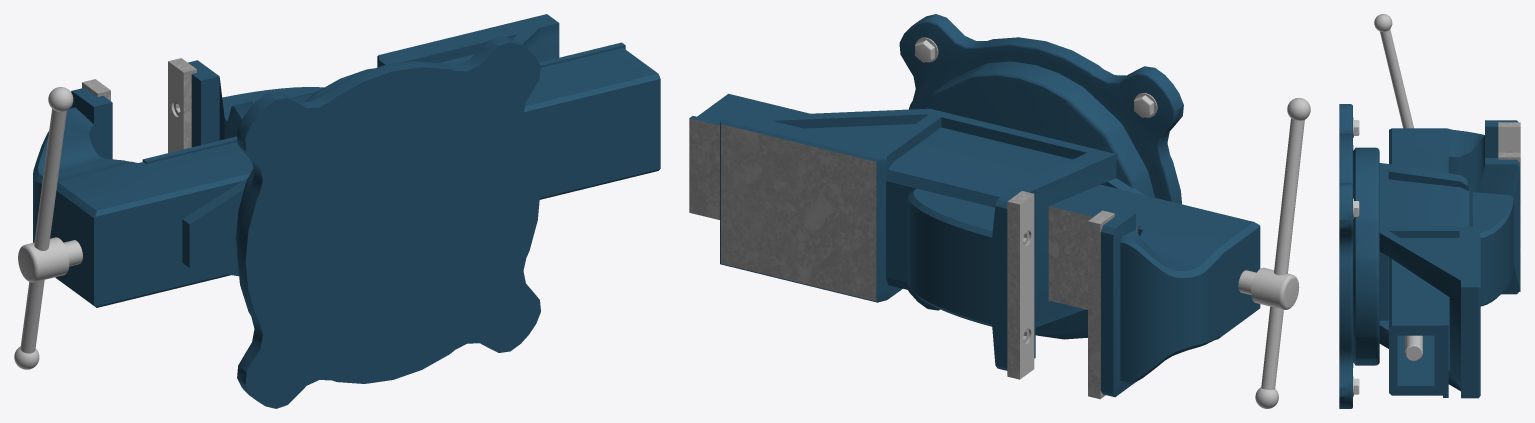
Rendered from Vise Mesh.fbx.
3 views of the same model, side by side, from view 1: azimuth 30°, elevation 25°; view 2: azimuth 150°, elevation 25°; view 3: azimuth 270°, elevation 25° (orthographic). The views are drawn at different scales.
Parts seen in each view (by area): view 1: Vise LOD0; view 2: Vise LOD0; view 3: Vise LOD0.
Part boxes in pixels (box(x1,y1,x2,y2)): Vise LOD0: box(14, 14, 660, 408); Vise LOD0: box(689, 14, 1310, 408); Vise LOD0: box(1339, 14, 1520, 408).
Size of what is drawn, in the model's own units: 0.5196 by 0.2752 by 0.1832.
1 material, 1 textured.
